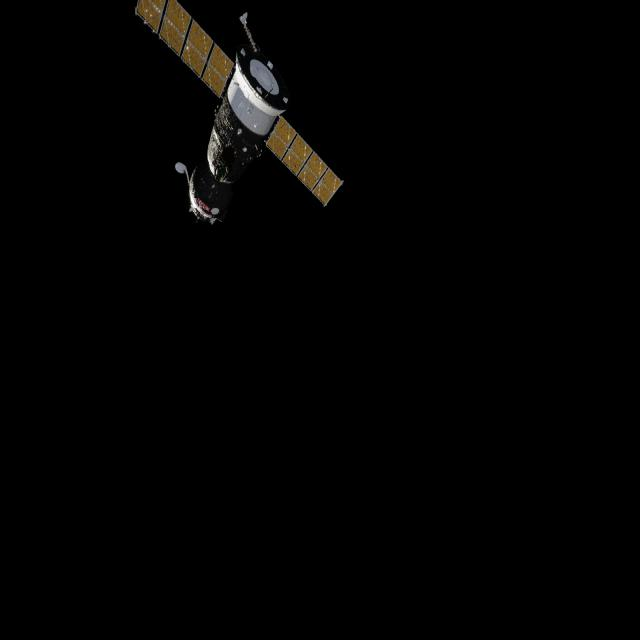Satellites revolving around earth: (133, 1, 345, 229)
